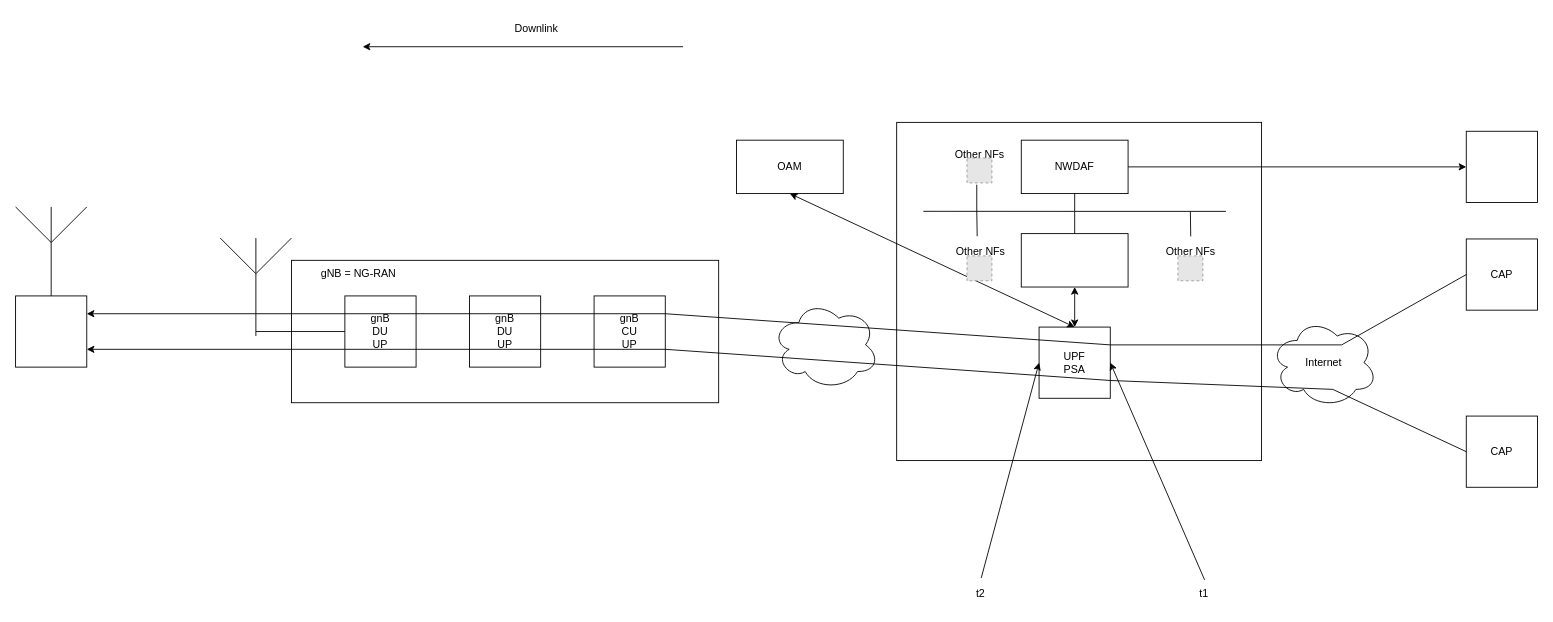
This 1553x622 diagram has some shape labels left out. Grey dashed boxes stand in for pictures. The shapes that lost their labels are listed below. From the top down, each one's centre as x and y in pixels, then its label:
(x=1501, y=166): TELECOM REGULATOR
(x=1074, y=260): SMF
(x=51, y=331): UE
(x=825, y=344): Backhaul Network
